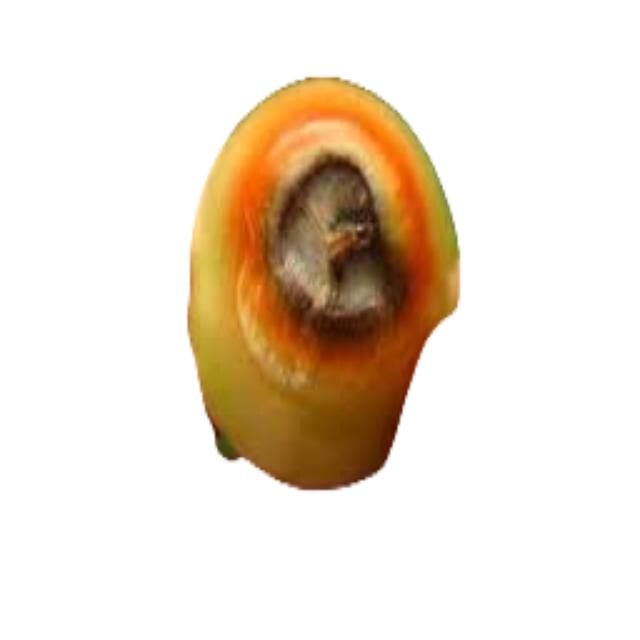defect: (184, 75, 463, 498)
